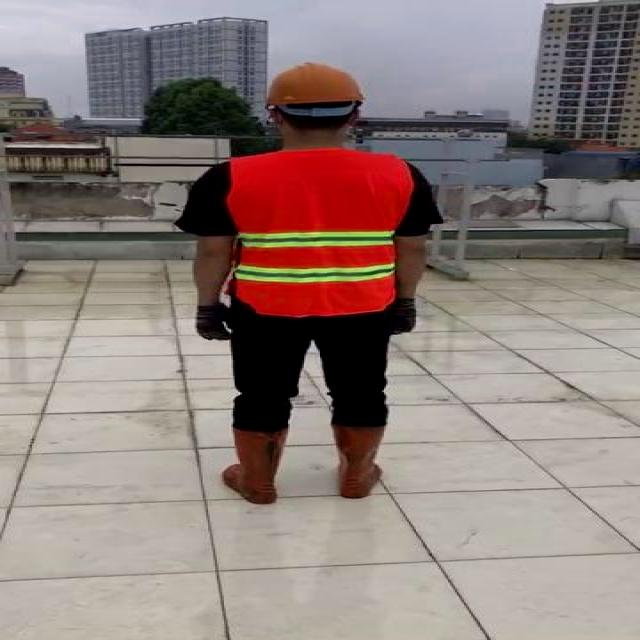boots: (220, 426, 294, 506), (327, 423, 395, 501)
hand_glove: (188, 303, 230, 345), (386, 292, 423, 339)
head_helmet: (261, 62, 367, 106)
person: (172, 58, 450, 512)
vest: (227, 149, 409, 319)
